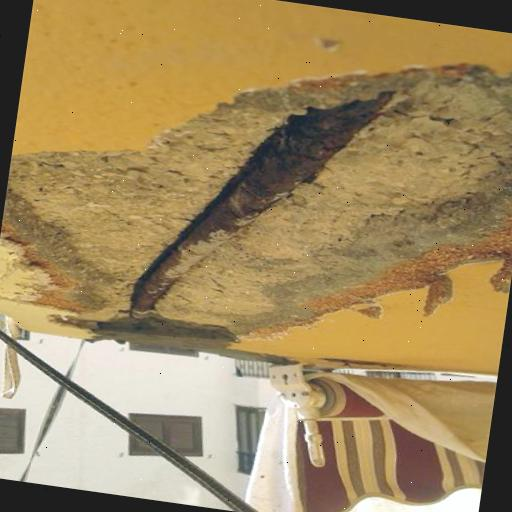spalling: (6, 66, 512, 346)
